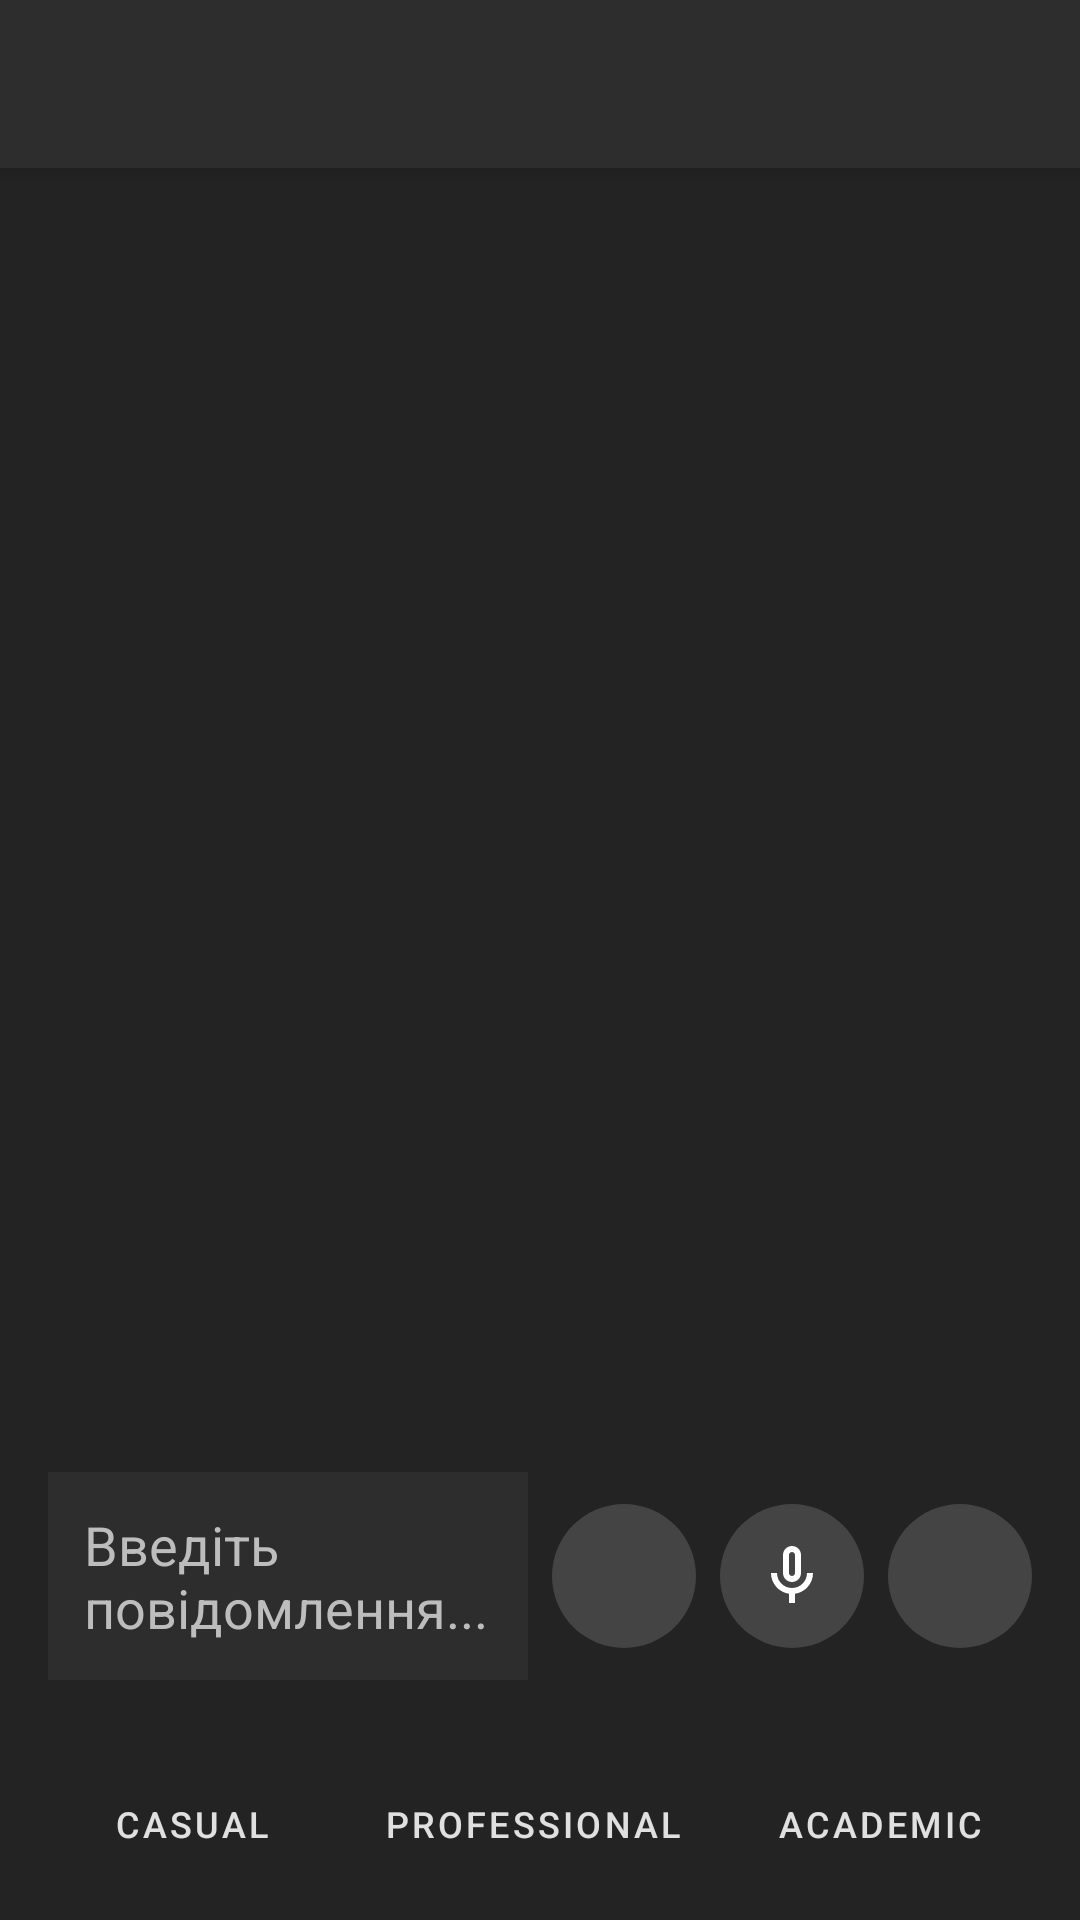

Icons on this 1080*1920 Android screen, each with the point to tap as (x,y):
Voice Input: (792,1576)
